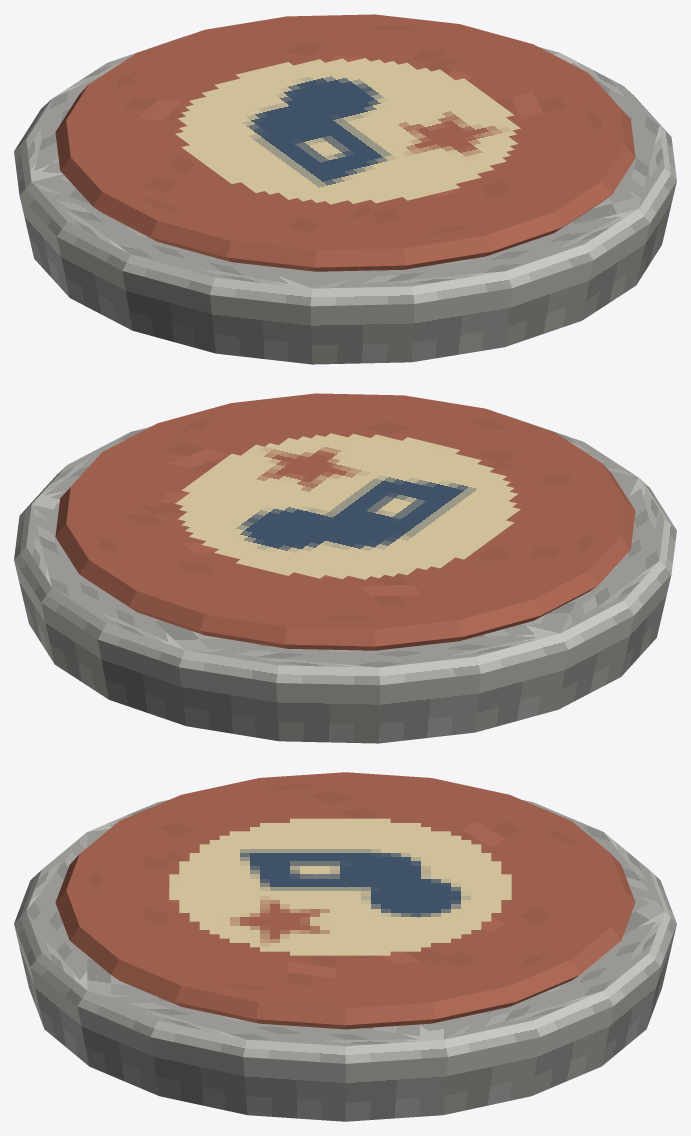
Rendered from pin_badge.glb.
The picture shows the model from 3 angles, top to bottom: view 1: azimuth 30°, elevation 25°; view 2: azimuth 150°, elevation 25°; view 3: azimuth 270°, elevation 25°; orthographic projection.
Visible parts, largest first — view 1: block_recessed face, block_beveled badge body, block_original printed emblem; view 2: block_recessed face, block_beveled badge body, block_original printed emblem; view 3: block_recessed face, block_beveled badge body, block_original printed emblem.
Boxes of the visible parts, x1,y1,x2,y2 form: block_recessed face: (55,14,635,271); block_beveled badge body: (14,36,676,364); block_original printed emblem: (175,58,520,204); block_recessed face: (55,393,635,650); block_beveled badge body: (14,415,676,743); block_original printed emblem: (175,433,520,579); block_recessed face: (55,772,635,1029); block_beveled badge body: (14,800,676,1121); block_original printed emblem: (169,818,511,955).
Size of the model in its own units: 0.0314 by 0.00726 by 0.0314.
Materials: 3 (3 with a texture image).
